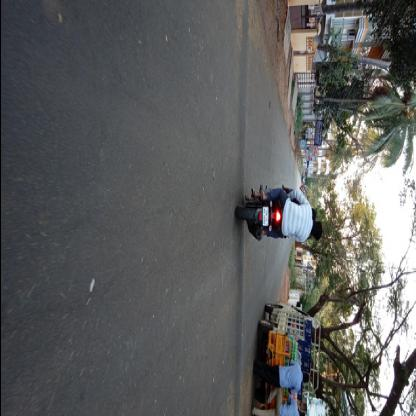speed-bumps: (230, 0, 261, 193), (224, 244, 256, 414)
